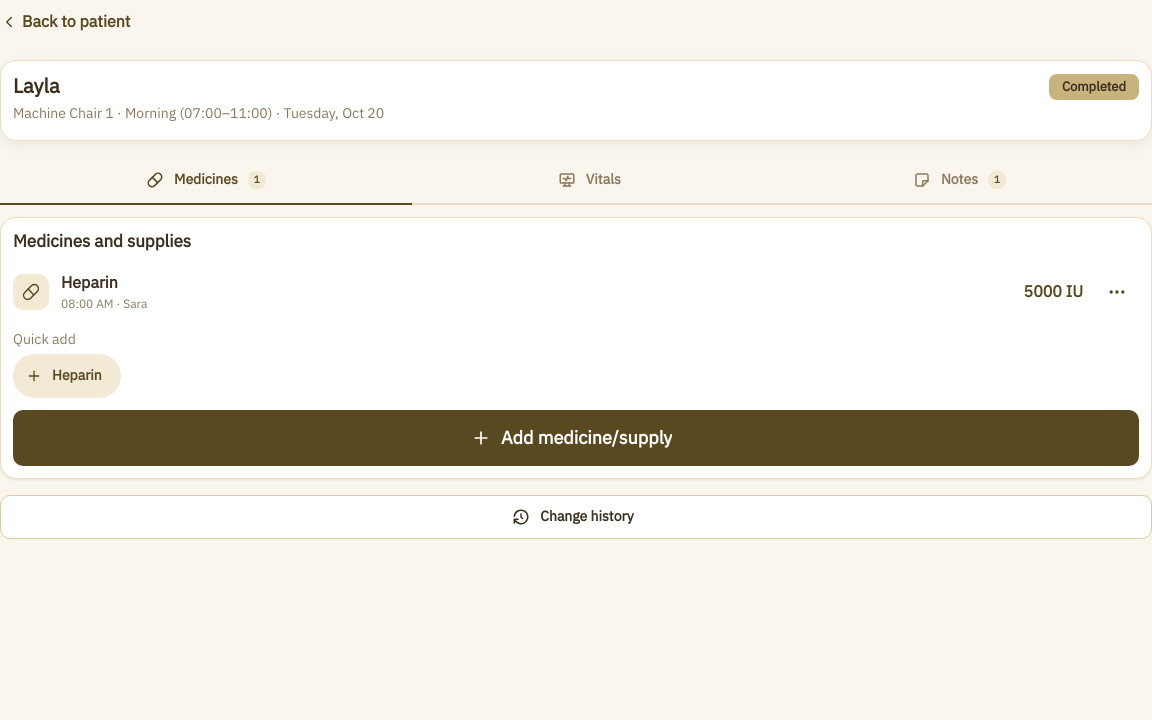
Scenario: SessionPage › a centre manager (view + editClosed + viewHistory, no run) sees edit controls and history on a completed session
Expected: the button "Add medicine/supply" is shown, [13,410,1139,466]
Expected: the button named "More for Heparin" is shown, [1095,270,1139,314]
Click the tab "Vitals": coordinates (589, 181) [412,157,767,205]
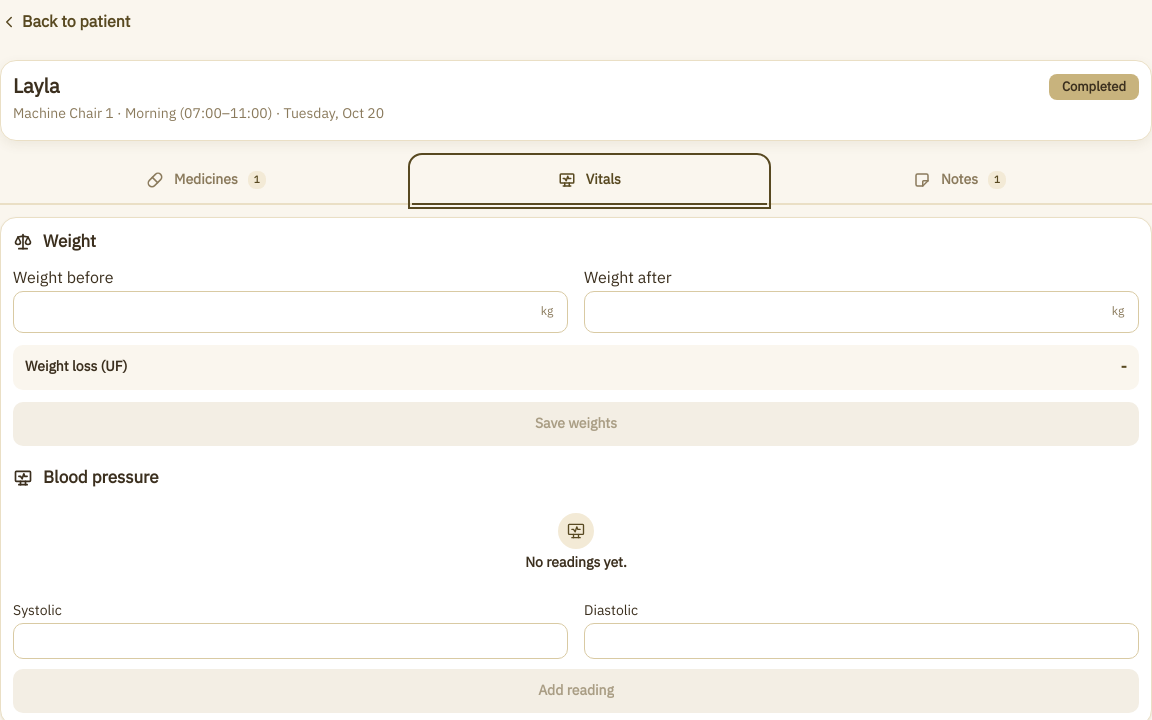
Now the button "Add reading" is shown, box [13,669,1139,713]
Click the tab "Notes 1": coordinates (959, 181) [767,157,1151,205]
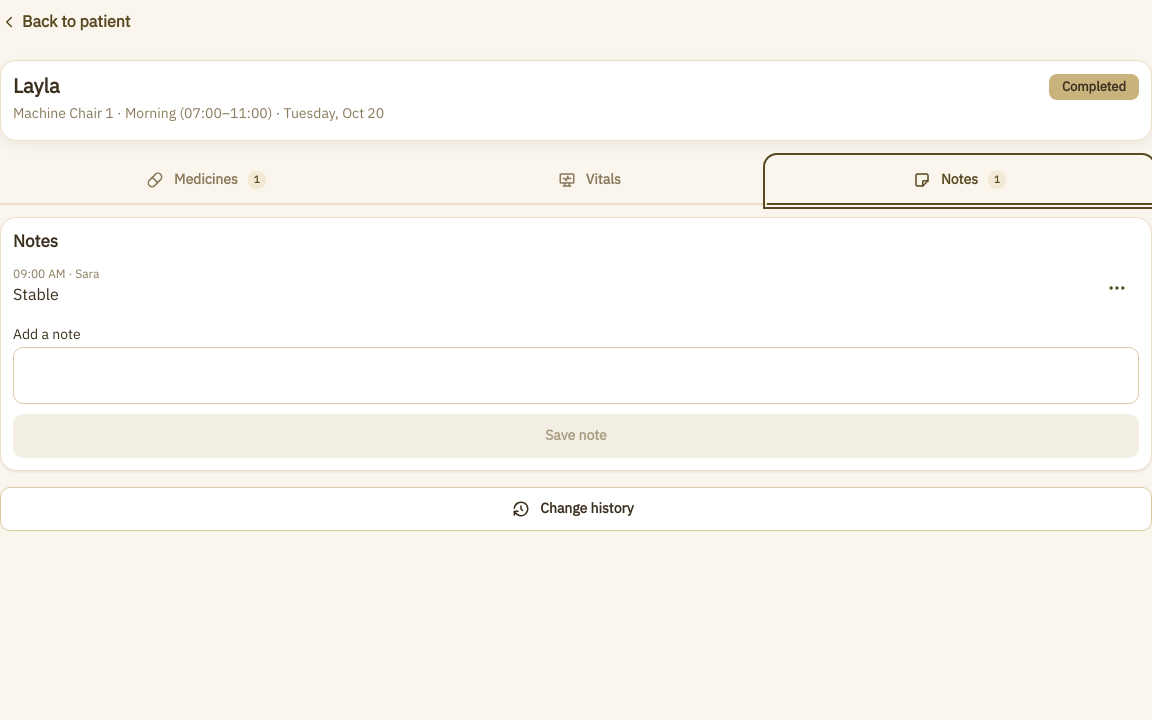
Expected: the button "Change history" is shown, [0,487,1151,531]
Now the button "Save note" is shown, box [13,414,1139,458]
Now the button named "More for this note" is shown, box [1095,266,1139,310]
